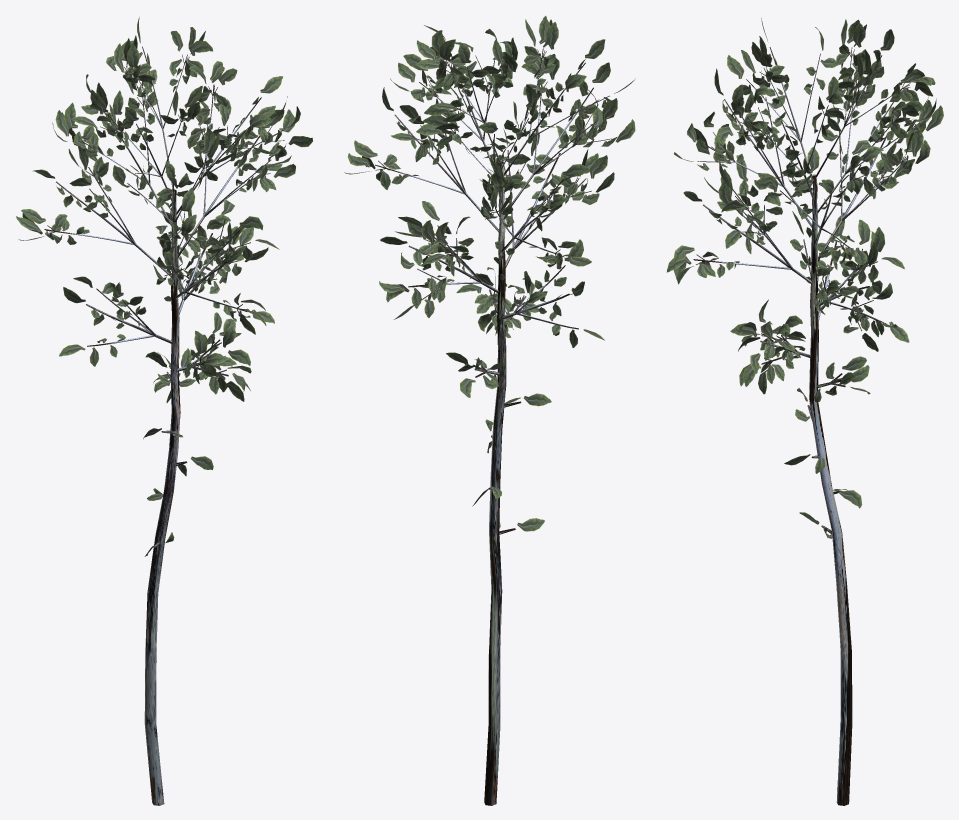
The model's file is tree2-1.glb.
3 views of the same model, side by side, from view 1: azimuth 30°, elevation 25°; view 2: azimuth 150°, elevation 25°; view 3: azimuth 270°, elevation 25° (orthographic).
Parts seen in each view (by area): view 1: Leaf, Main; view 2: Leaf, Main; view 3: Leaf, Main.
Boxes of the visible parts, bbox=[...] form: Leaf: bbox=[16, 17, 312, 556]; Main: bbox=[44, 46, 284, 805]; Leaf: bbox=[344, 15, 635, 531]; Main: bbox=[375, 48, 611, 805]; Leaf: bbox=[666, 18, 943, 538]; Main: bbox=[693, 47, 921, 805].
Bounding box in the file's own units: 3.33 × 9.46 × 3.06.
Materials: 2 (2 with a texture image).
